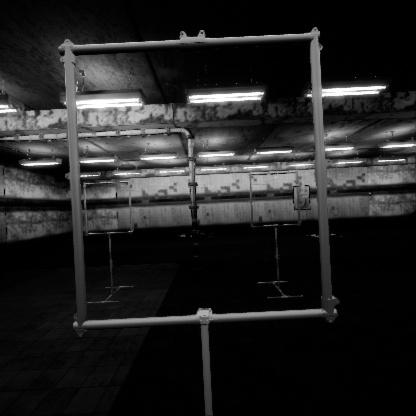gate: (65, 82, 356, 383), (249, 187, 304, 245), (83, 180, 137, 235)
